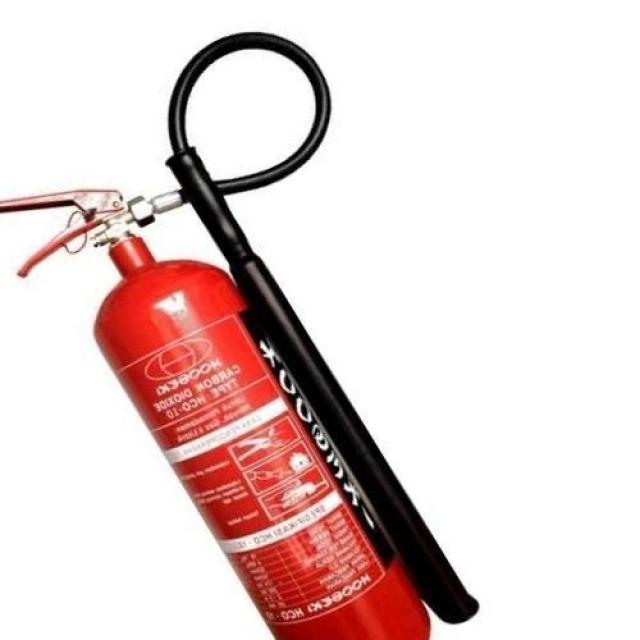fire_extinguisher: (0, 26, 480, 638)
